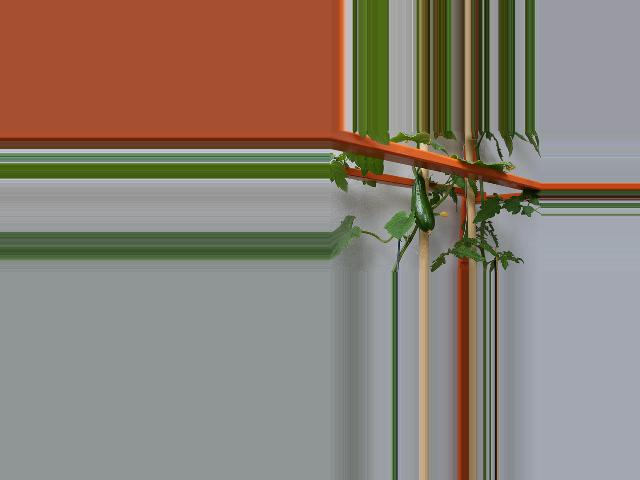cucumber: (411, 176, 435, 236)
